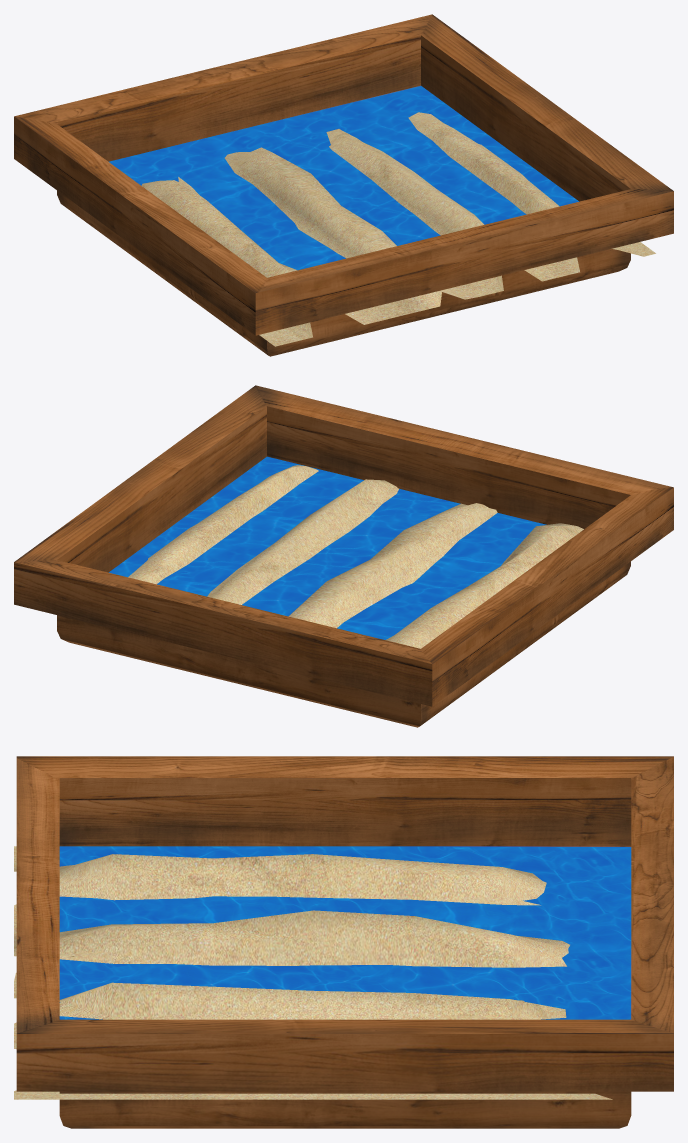
File: Sand02.fbx
3 views of the same model, one above another, from view 1: azimuth 30°, elevation 25°; view 2: azimuth 150°, elevation 25°; view 3: azimuth 270°, elevation 25° (orthographic). The views are drawn at different scales.
Visible parts, largest first — view 1: polySurface10; view 2: polySurface10; view 3: polySurface10.
Boxes of the visible parts, <box> form: polySurface10: <box>14,14,673,356</box>; polySurface10: <box>14,385,673,727</box>; polySurface10: <box>14,756,673,1128</box>.
Size of the model in its own units: 23.91 by 4.8 by 24.01.
